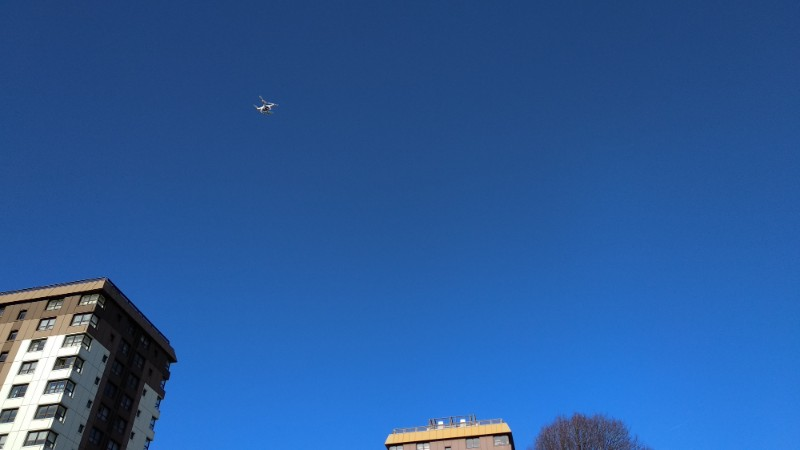drone: (249, 94, 279, 117)
